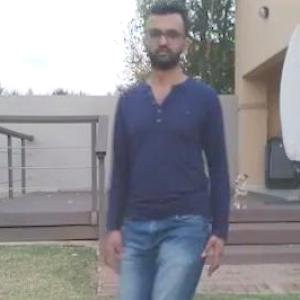follow: (97, 39, 200, 299)
